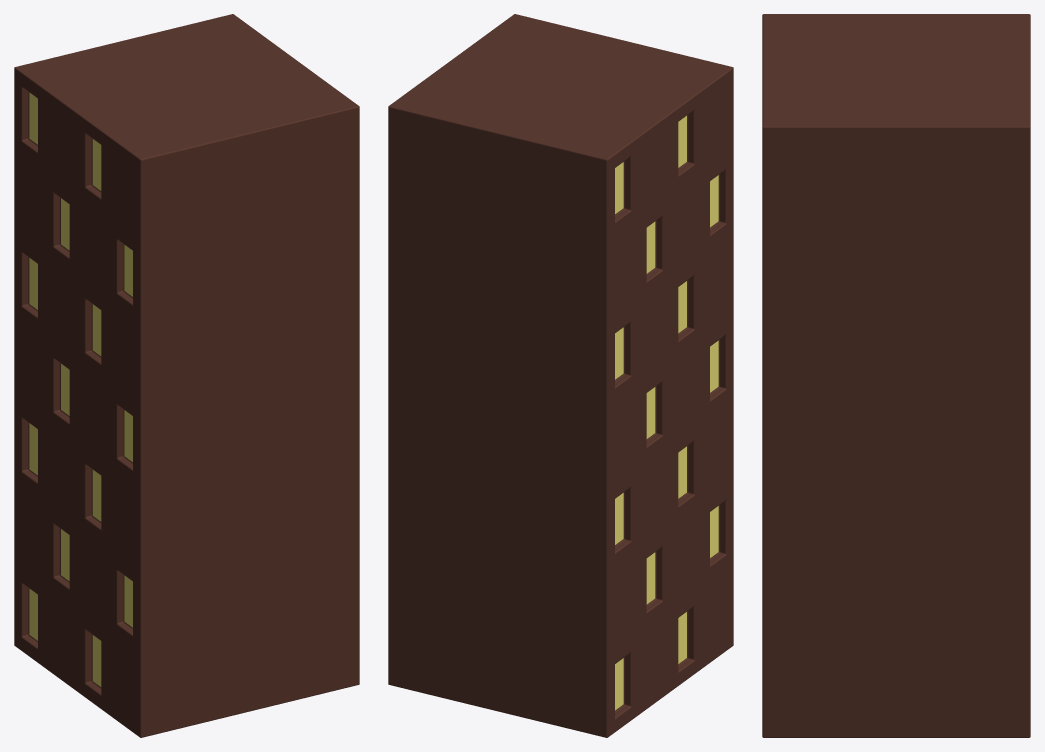
File: FillBuilding2 1.fbx
The picture shows the model from 3 angles, left to right: view 1: azimuth 30°, elevation 25°; view 2: azimuth 150°, elevation 25°; view 3: azimuth 270°, elevation 25°; orthographic projection. The views are drawn at different scales.
Parts seen in each view (by area): view 1: Cube.024; view 2: Cube.024; view 3: Cube.024.
Boxes of the visible parts, x1,y1,x2,y2 form: Cube.024: (14, 14, 359, 737); Cube.024: (388, 14, 733, 737); Cube.024: (762, 14, 1030, 737).
Size of the model in its own units: 815 by 2052 by 815.
